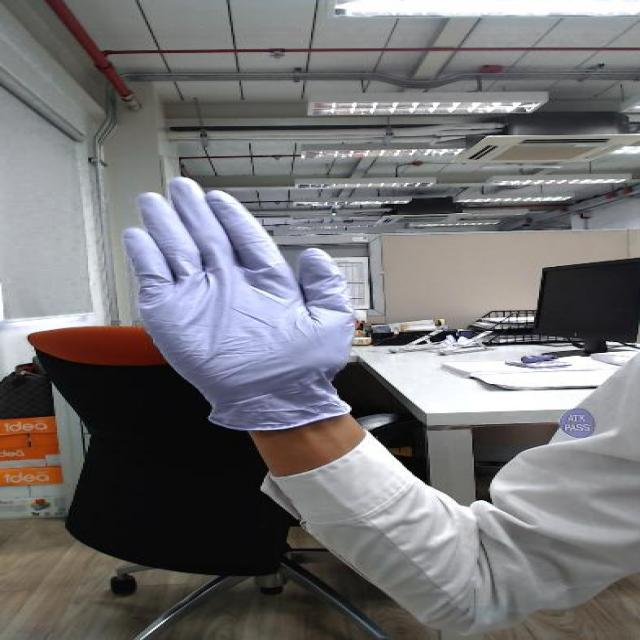with_gloves: (82, 165, 384, 408)
